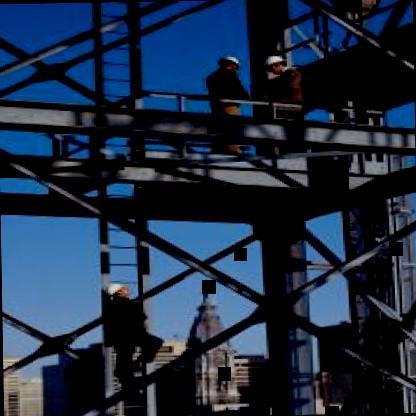helmet: (261, 50, 291, 76), (103, 280, 131, 300), (217, 53, 243, 72)
